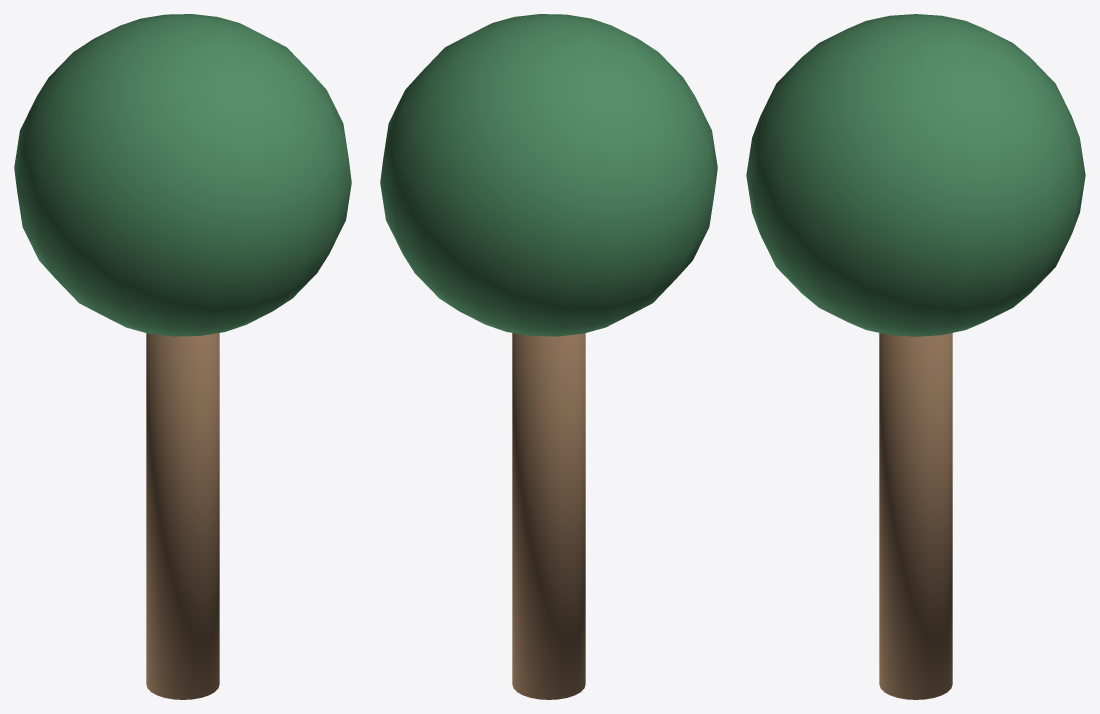
File: tree.tall-old.glb
3 views of the same model, side by side, from view 1: azimuth 30°, elevation 25°; view 2: azimuth 150°, elevation 25°; view 3: azimuth 270°, elevation 25° (orthographic).
Parts seen in each view (by area): view 1: trunk; view 2: trunk; view 3: trunk.
Part boxes in pixels (x1=…): trunk: x1=14, y1=14, x2=351, y2=699; trunk: x1=380, y1=14, x2=717, y2=699; trunk: x1=746, y1=14, x2=1085, y2=699.
Bounding box in the file's own units: 1.3 × 2.76 × 1.3.
